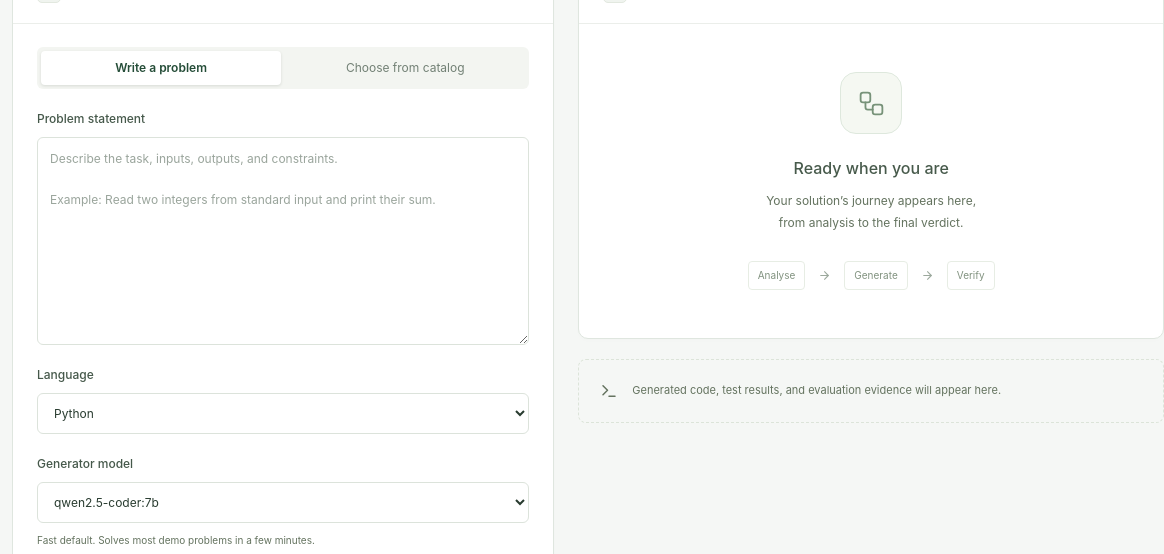
Scenario: function submission requires assertions and invalid JSON never reaches the API
Type "Add two integers from solve(a, b)." into the text box labelled "Problem statement" at (283, 241), box [37,137,529,345]
(page scrolled)
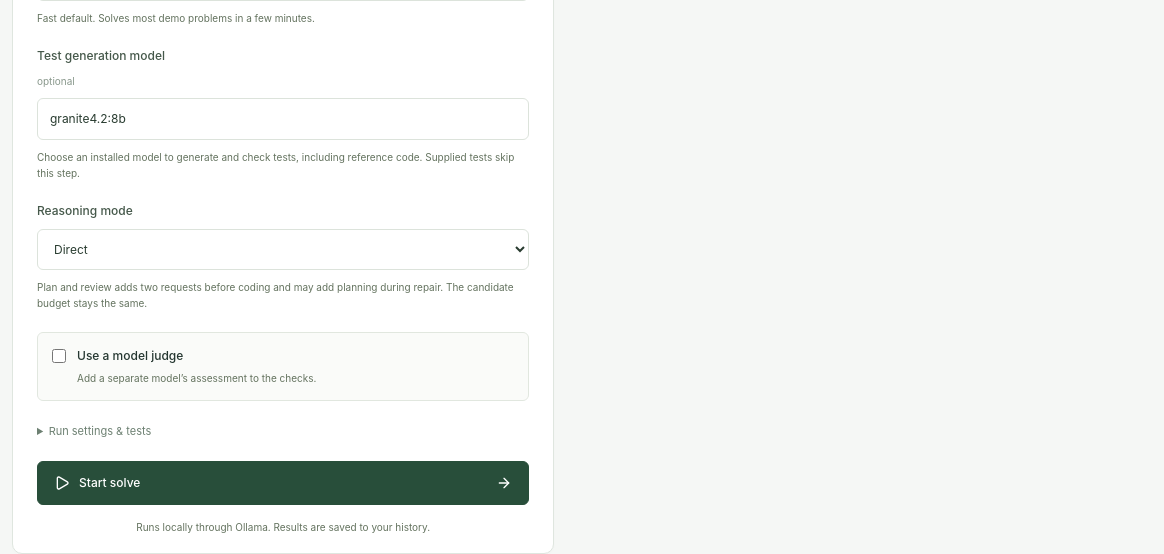
Click the heading "Run settings & tests" at (100, 431), box [49,424,151,438]
(page scrolled)
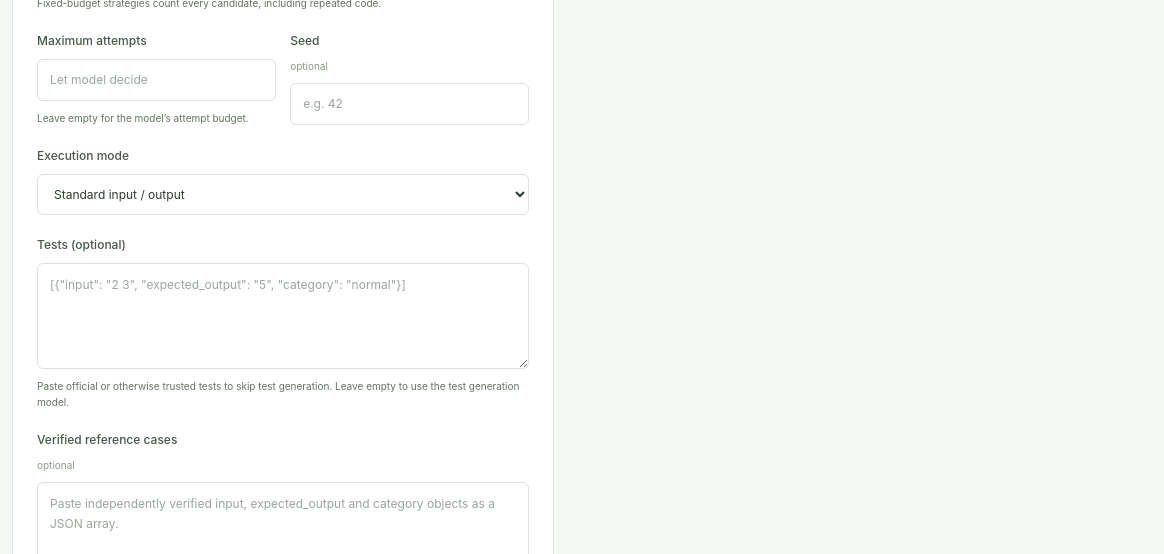
Select "Function with assertion tests" in the dropdown labelled "Execution mode" at (283, 195), box [37,174,529,215]
(page scrolled)
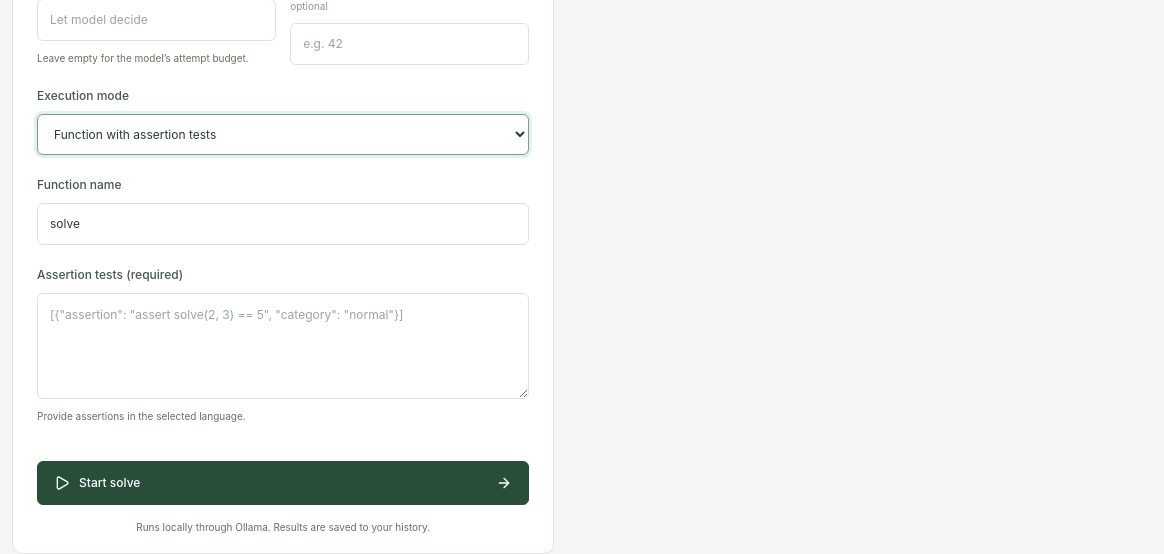
Click the button "Start solve" at (110, 482), box [37,461,529,505]
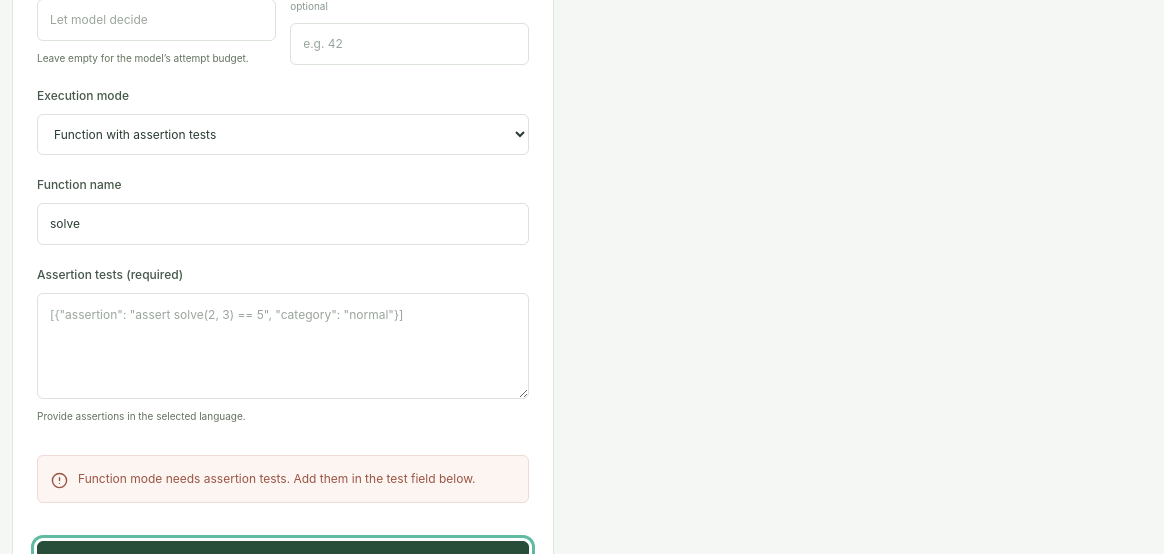
Expected: the message shows "Function mode needs assertion tests", [78,471,476,486]
Type "invalid" into the text box labelled "Assertion tests (required)" at (283, 346), box [37,293,529,399]
(page scrolled)
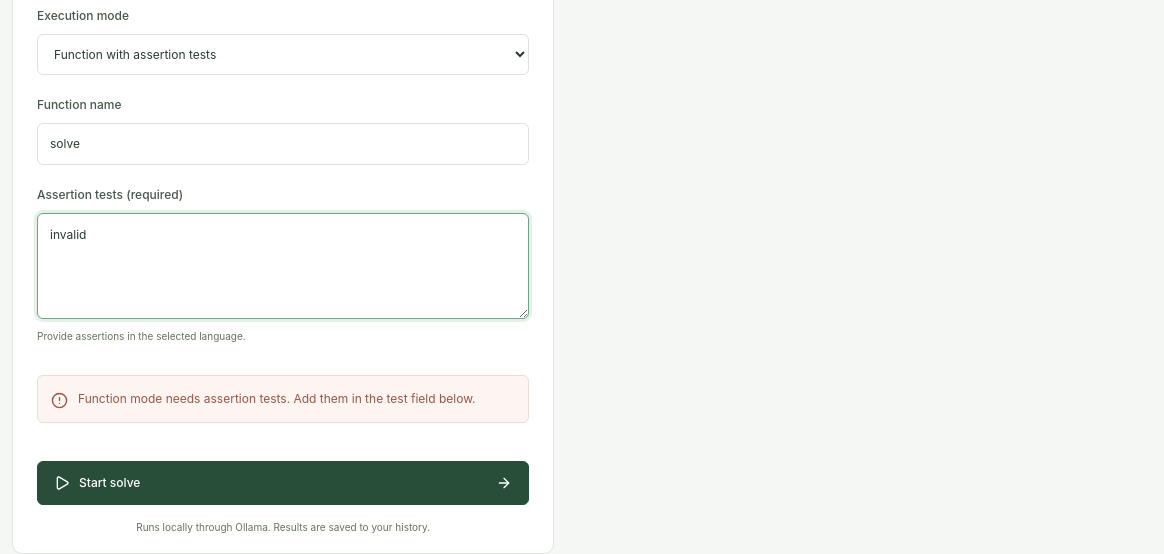
Click the button "Start solve" at (110, 483), box [37,461,529,505]
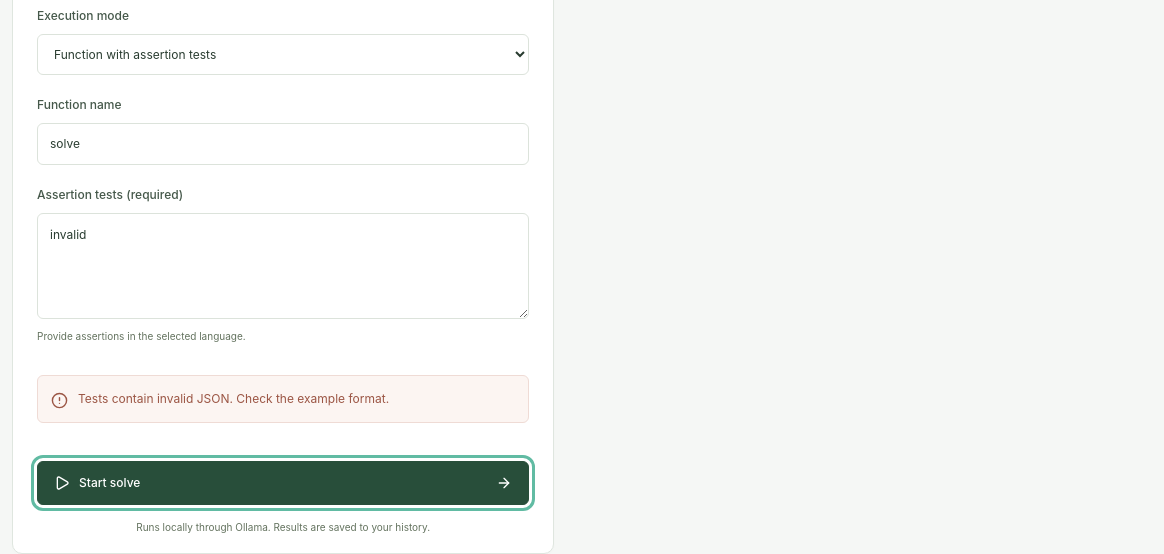
Expected: the message shows "invalid JSON", [78,391,389,406]
